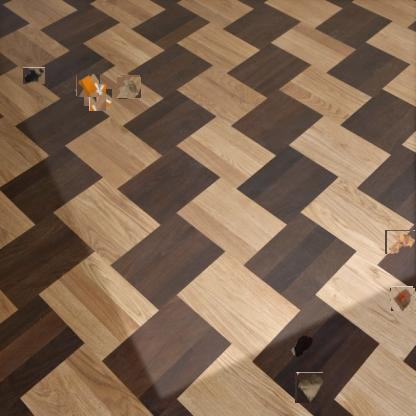dirty: (296, 372, 324, 403), (386, 230, 416, 254), (391, 287, 414, 311), (117, 76, 141, 98), (76, 74, 100, 96), (87, 86, 109, 109)
liquid: (290, 334, 314, 358), (23, 67, 45, 84)
